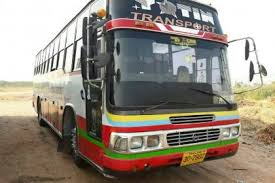bus: (31, 1, 240, 179)
